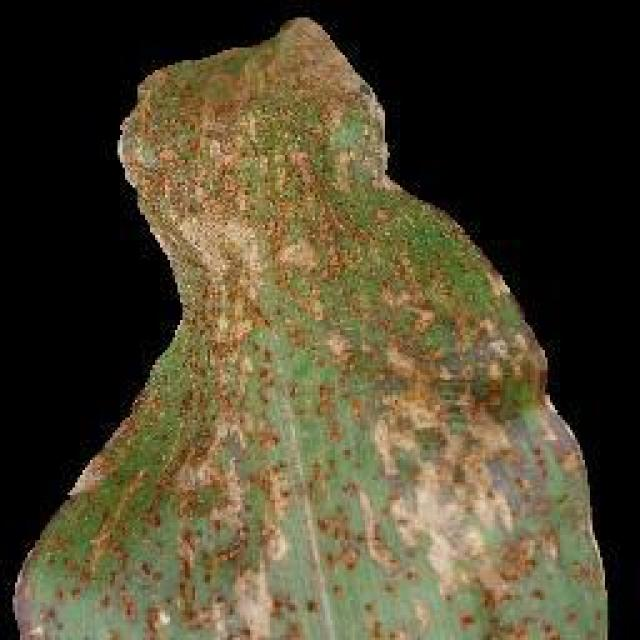Corn Common Rust: (118, 80, 525, 640)
